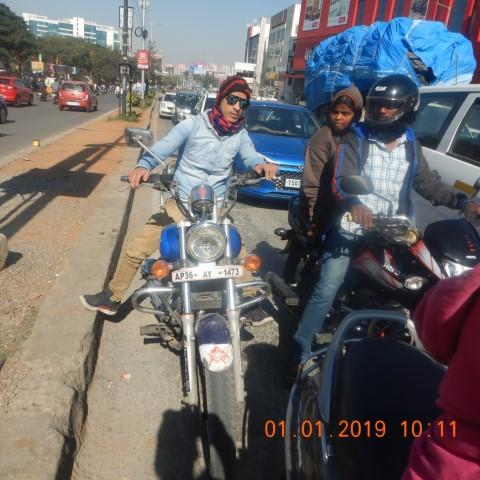plate: (173, 264, 245, 281)
